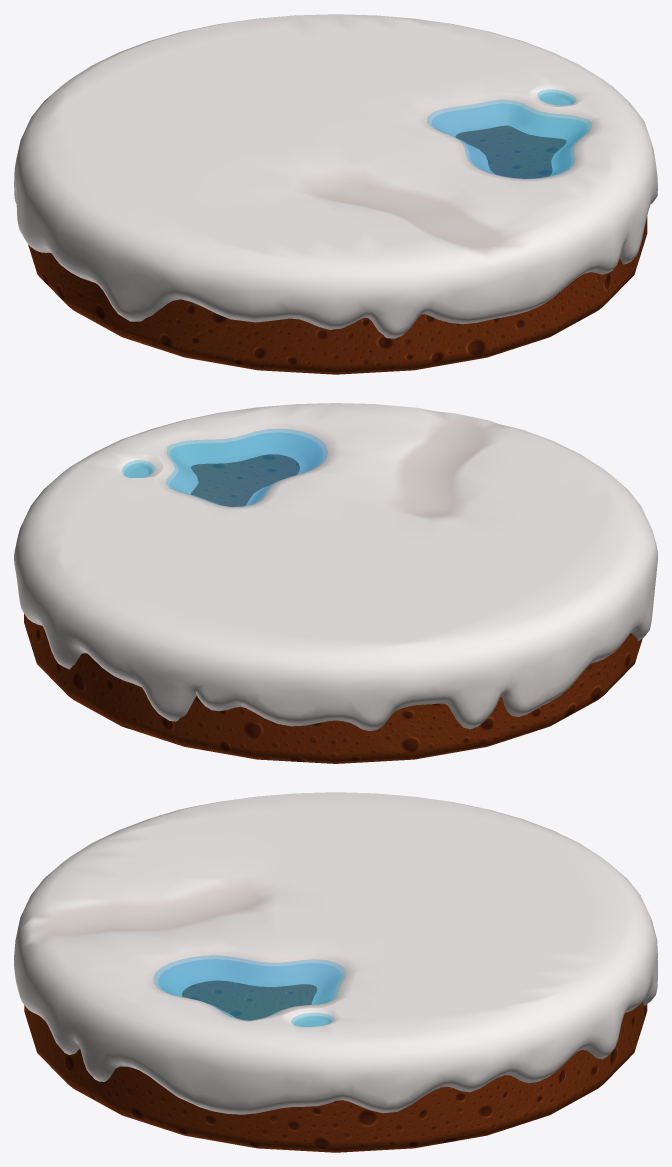
Rendered from Plantform_001.fbx.
The picture shows the model from 3 angles, top to bottom: view 1: azimuth 30°, elevation 25°; view 2: azimuth 150°, elevation 25°; view 3: azimuth 270°, elevation 25°; orthographic projection.
Parts seen in each view (by area): view 1: Plantform_001; view 2: Plantform_001; view 3: Plantform_001.
Part boxes in pixels (x1,y1,x2,y2): Plantform_001: [14, 14, 657, 374]; Plantform_001: [14, 403, 657, 763]; Plantform_001: [14, 792, 657, 1152].
Size of the model in its own units: 17.26 by 3.3 by 17.26.
